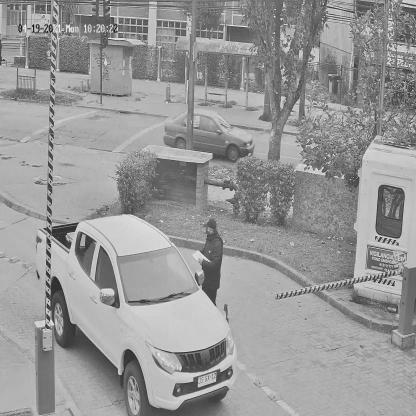Patente: (197, 368, 217, 389)
